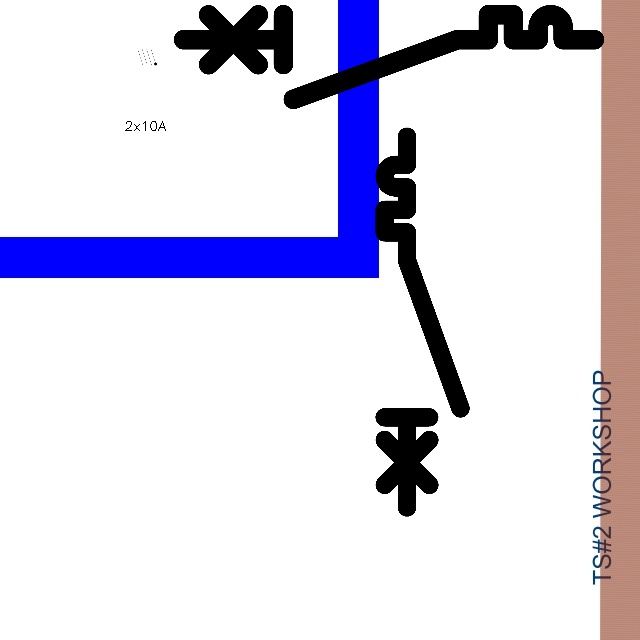interruptor_termomagnetico: (172, 4, 604, 110), (375, 127, 470, 517)
